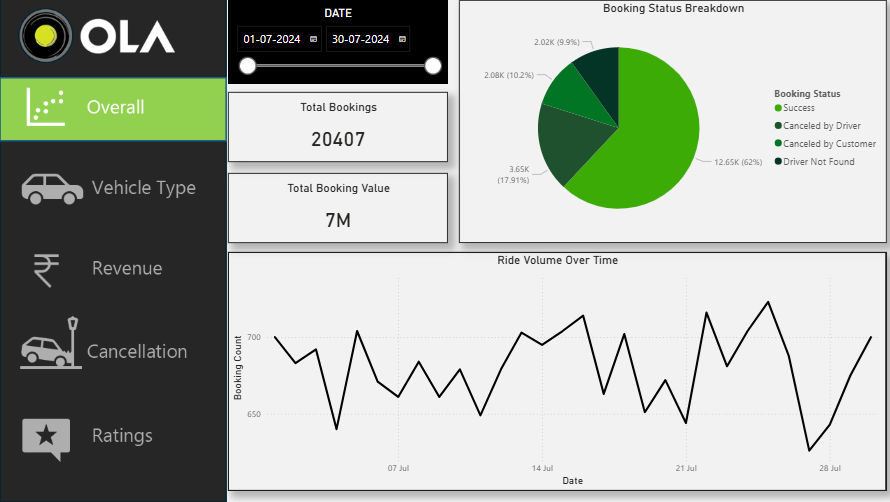

The dashboard page shown, as its layout file describes it:
{"tool":"powerbi","page":{"name":"Overall","canvas":[1280,720],"ordinal":0},"visuals":[{"type":"actionButton","box":[0,220.4,326.2,95.5],"z":0},{"type":"actionButton","box":[0,346.8,326.2,95.5],"z":1000},{"type":"actionButton","box":[0,442.3,326.2,95.5],"z":2000},{"type":"actionButton","box":[0,571.6,326.2,95.5],"z":3000},{"type":"lineChart","title":"Ride Volume Over Time","fields":{"Y":["CountNonNull(bookings_cleaned.Booking_ID)"],"Category":["bookings_cleaned.Date"]},"box":[326.2,360,940.4,340.9],"z":4000},{"type":"pieChart","title":"Booking Status Breakdown","fields":{"Category":["bookings_cleaned.Booking_Status"],"Y":["CountNonNull(bookings_cleaned.Booking_Status)"]},"box":[655.3,0,611.3,346.8],"z":5000},{"type":"slicer","title":"DATE","fields":{"Values":["bookings_cleaned.Date"]},"box":[326.2,0,314.4,120.5],"z":6000},{"type":"card","title":"Total Bookings","fields":{"Values":["Count(bookings_cleaned.Booking_ID)"]},"box":[326.2,130.8,314.4,99.9],"z":7000},{"type":"card","title":"Total Booking Value","fields":{"Values":["Sum(bookings_cleaned.Booking_Value)"]},"box":[326.2,246.9,314.4,99.9],"z":8000}]}

Visuals, with their boxes in screenshot pixels (x1, y1, x2, y2), scaled from the page's 1280x720 canvas onto the 890x502 screenshot:
actionButton: (0,154,227,220)
actionButton: (0,242,227,308)
actionButton: (0,308,227,375)
actionButton: (0,399,227,465)
"Ride Volume Over Time" lineChart: (227,251,881,489)
"Booking Status Breakdown" pieChart: (456,0,881,242)
"DATE" slicer: (227,0,445,84)
"Total Bookings" card: (227,91,445,161)
"Total Booking Value" card: (227,172,445,242)
